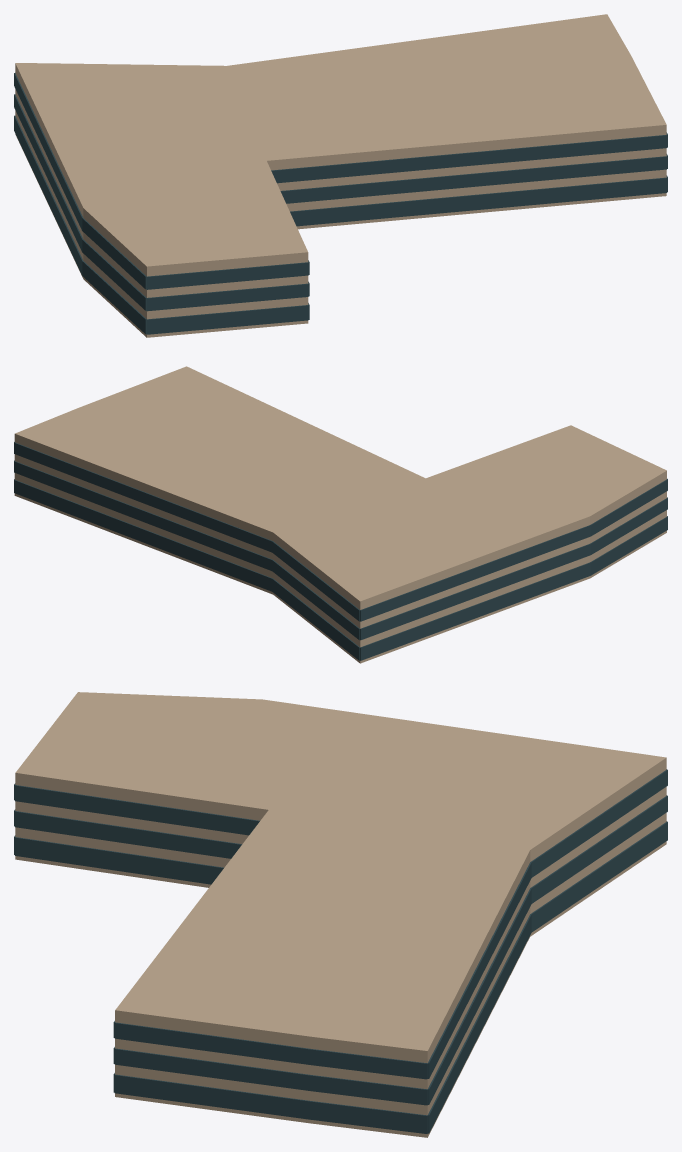
The model's file is bgc_building_0011_lod1.glb.
3 renders of one model, top to bottom at view 1: azimuth 30°, elevation 25°; view 2: azimuth 150°, elevation 25°; view 3: azimuth 270°, elevation 25°, orthographic. The views are drawn at different scales.
Parts seen in each view (by area): view 1: BGC_RUNTIME_001_M10_0011_Envelope, BGC_RUNTIME_M10_0011_FACADE_BANDS; view 2: BGC_RUNTIME_001_M10_0011_Envelope, BGC_RUNTIME_M10_0011_FACADE_BANDS; view 3: BGC_RUNTIME_001_M10_0011_Envelope, BGC_RUNTIME_M10_0011_FACADE_BANDS.
Part boxes in pixels (x1,y1,x2,y2): BGC_RUNTIME_001_M10_0011_Envelope: [15, 14, 666, 337]; BGC_RUNTIME_M10_0011_FACADE_BANDS: [14, 73, 667, 334]; BGC_RUNTIME_001_M10_0011_Envelope: [14, 366, 666, 663]; BGC_RUNTIME_M10_0011_FACADE_BANDS: [14, 442, 667, 660]; BGC_RUNTIME_001_M10_0011_Envelope: [15, 692, 666, 1137]; BGC_RUNTIME_M10_0011_FACADE_BANDS: [14, 769, 667, 1133].
Bounding box in the file's own units: 89.9 × 10.1 × 68.97.
